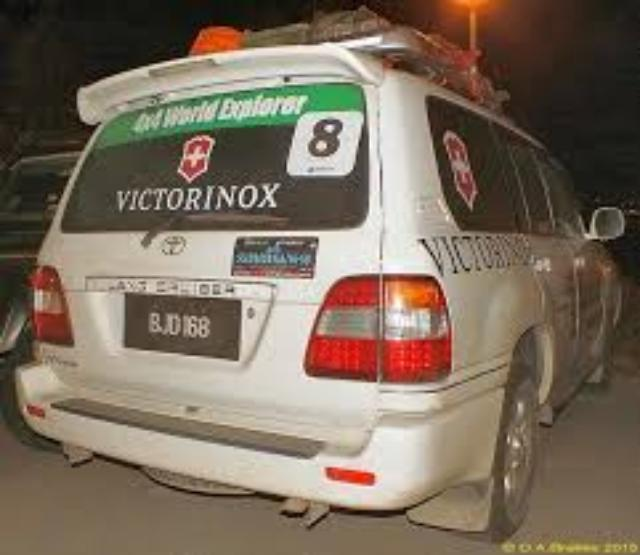License_Plate: (119, 287, 261, 378)
car: (20, 17, 640, 555)
